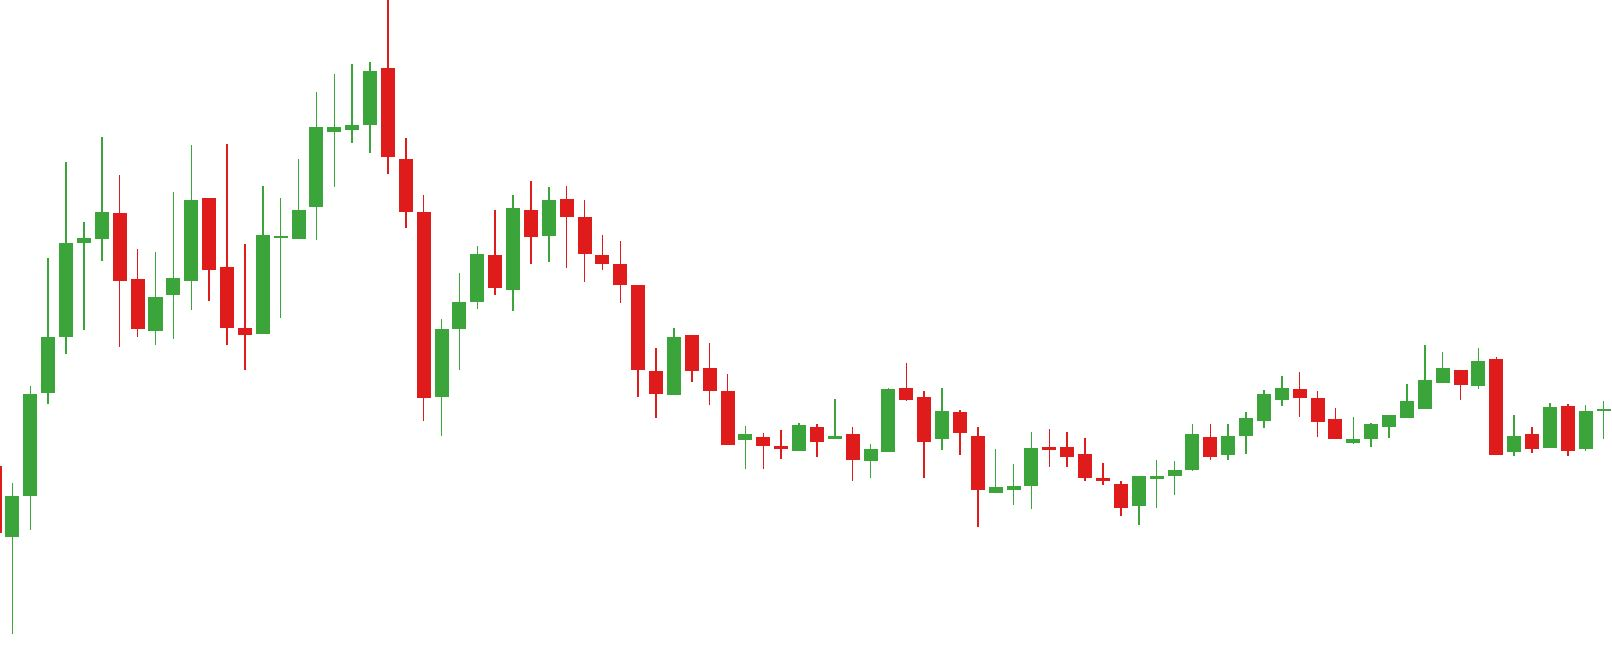buy: (1008, 450, 1148, 530)
sell: (219, 10, 398, 223)
